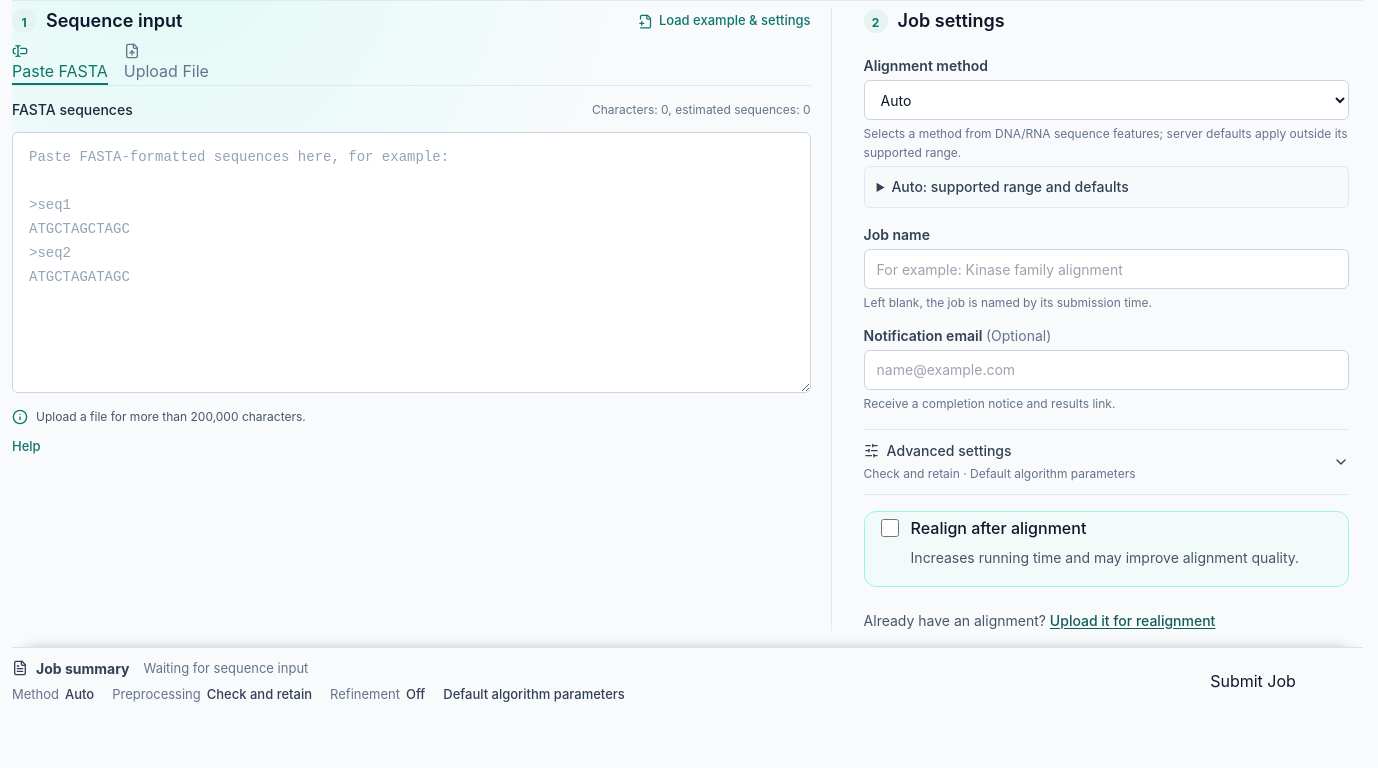
restores an empty form without adding a job-name error when example loading is undone
Expected: the field labelled "Job name" is empty, x1=864 y1=249 x2=1349 y2=289
Click the button "Load example & settings": (724, 21) x1=638 y1=11 x2=811 y2=31
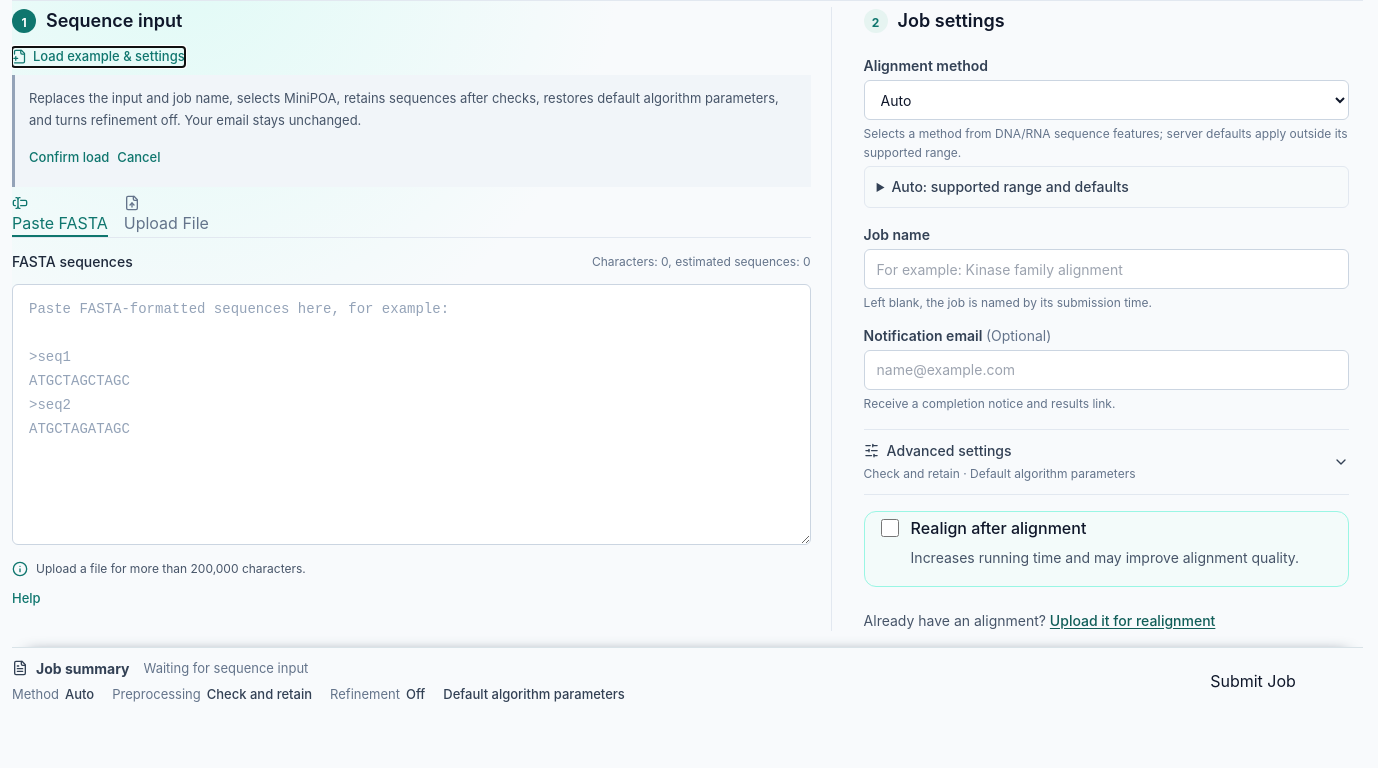
Click the button "Confirm load": (69, 157) x1=29 y1=139 x2=109 y2=175
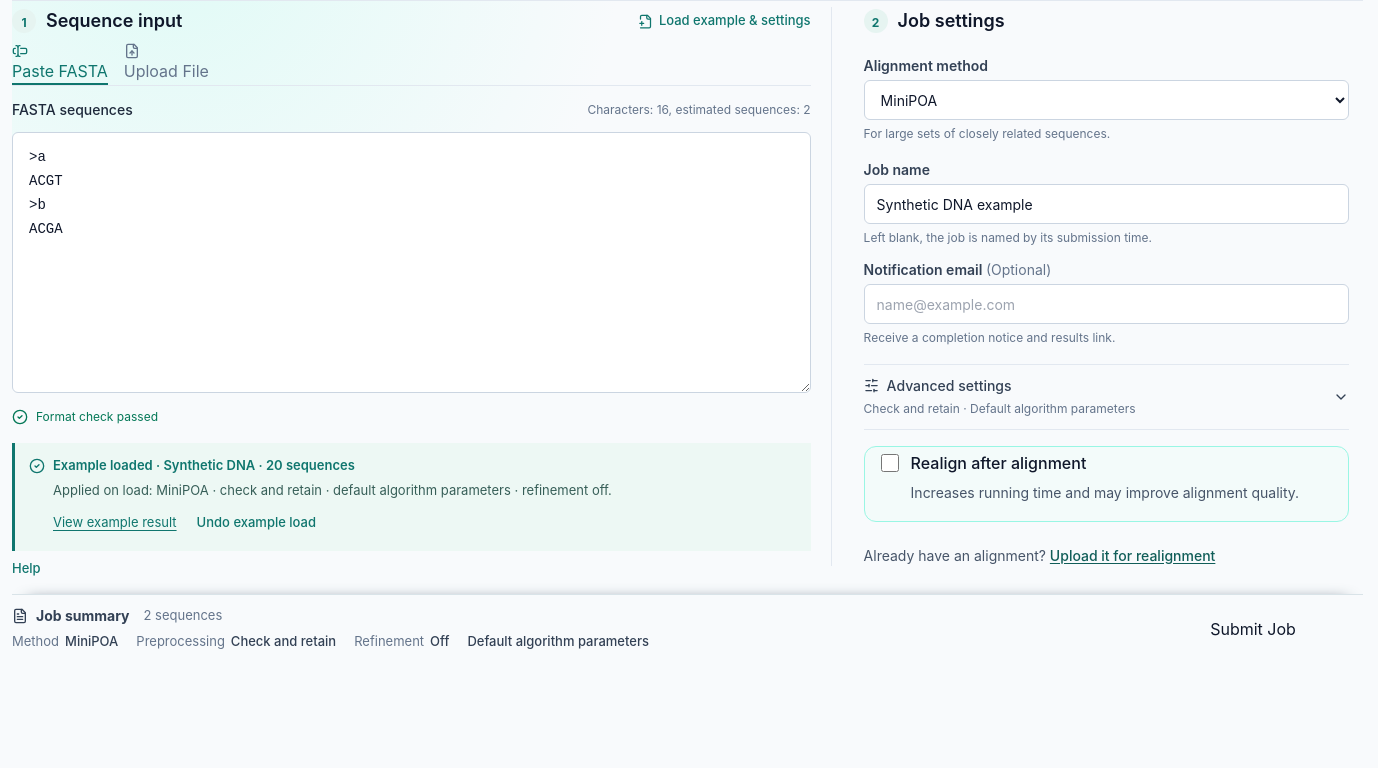
Click the button "Undo example load": (256, 523) x1=197 y1=507 x2=316 y2=539
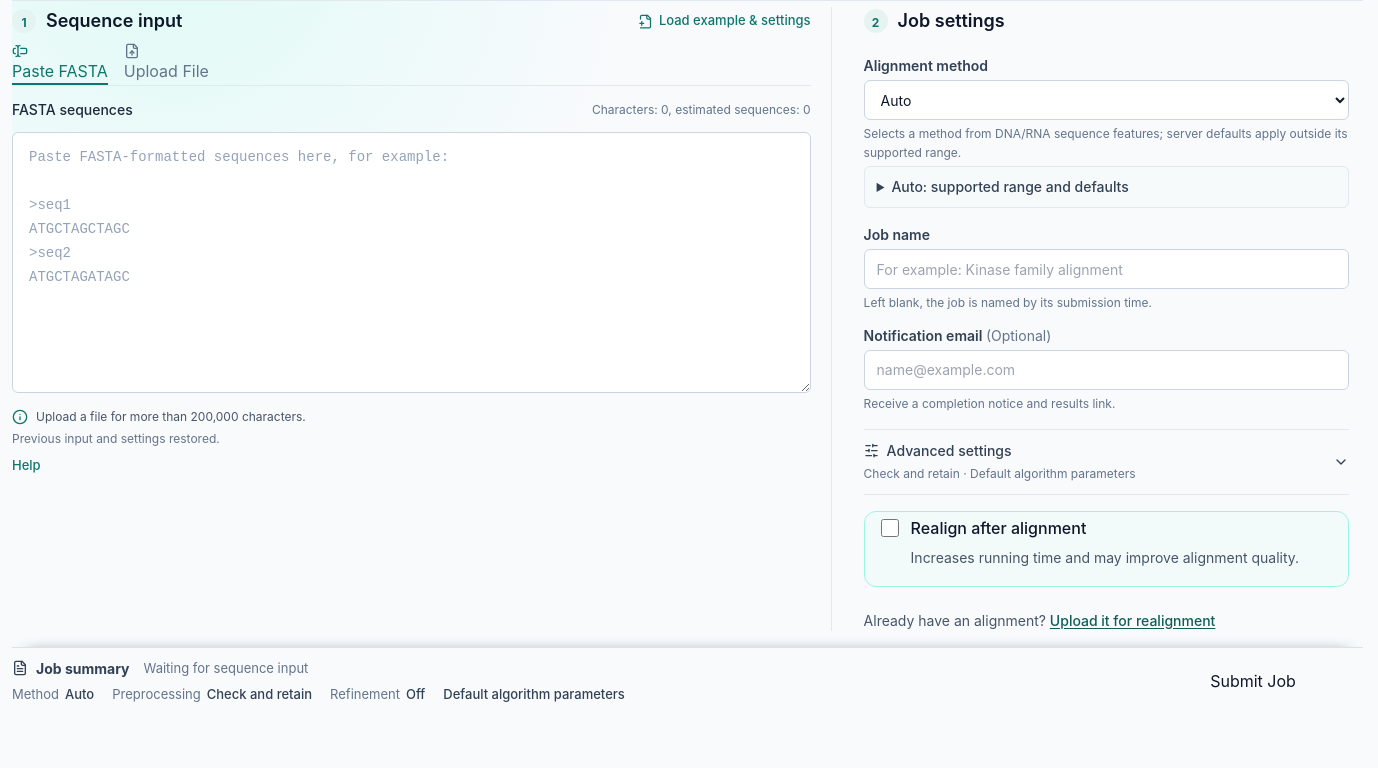
Expected: the field labelled "Job name" is empty, x1=864 y1=249 x2=1349 y2=289
Expected: the text box labelled "FASTA sequences" is empty, x1=12 y1=132 x2=811 y2=393
Expected: the dropdown labelled "Alignment method" shows "Auto", x1=864 y1=80 x2=1349 y2=120
